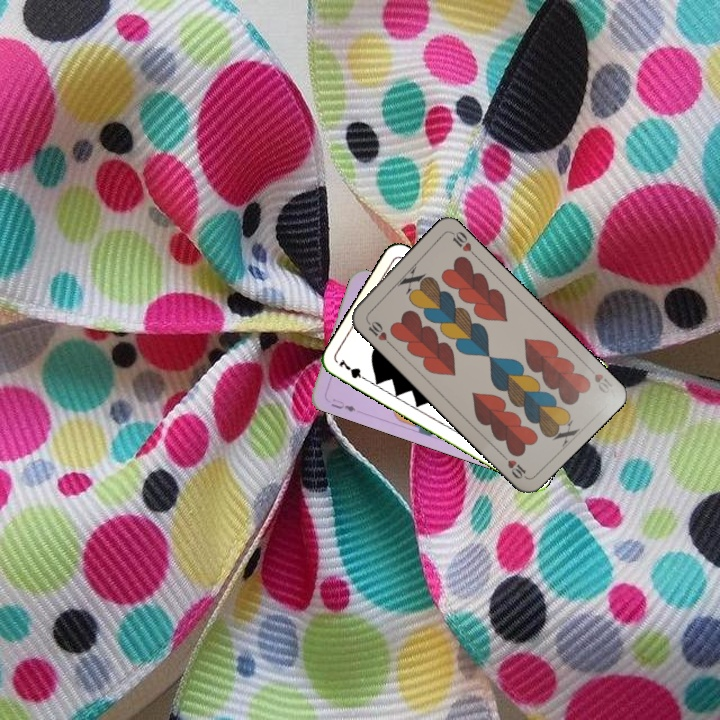EU: (327, 394, 358, 414)
G7: (335, 355, 371, 384)
H10: (582, 361, 615, 396), (362, 315, 394, 348)
